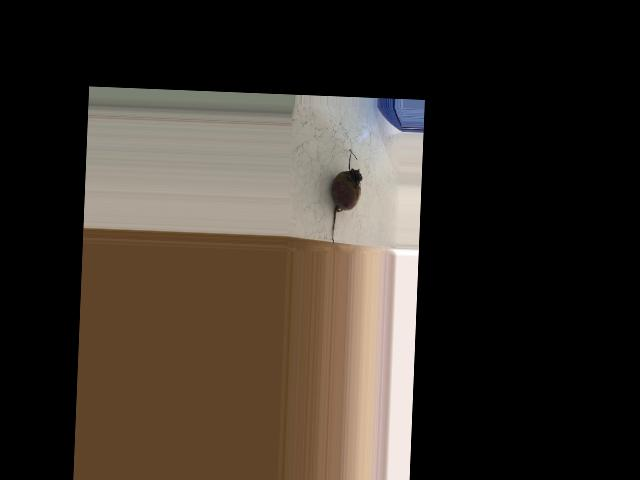beet: (329, 149, 362, 246)
